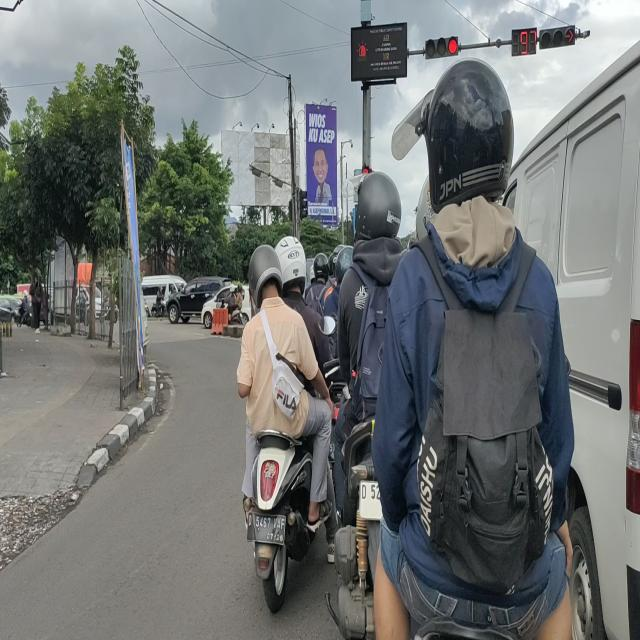helmet: (418, 58, 516, 201), (356, 173, 402, 243), (246, 244, 282, 306), (274, 233, 308, 290), (334, 245, 354, 276), (314, 251, 329, 282)
